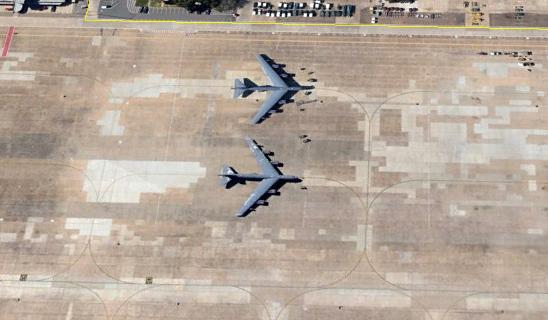B-52: (219, 136, 301, 220), (230, 49, 305, 127)
